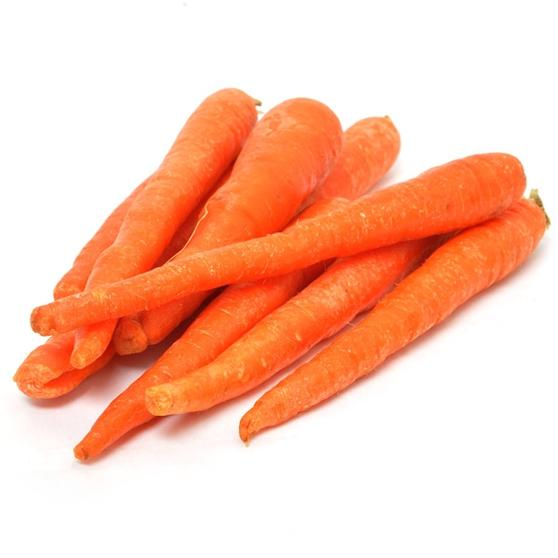carrot: (35, 143, 538, 351)
